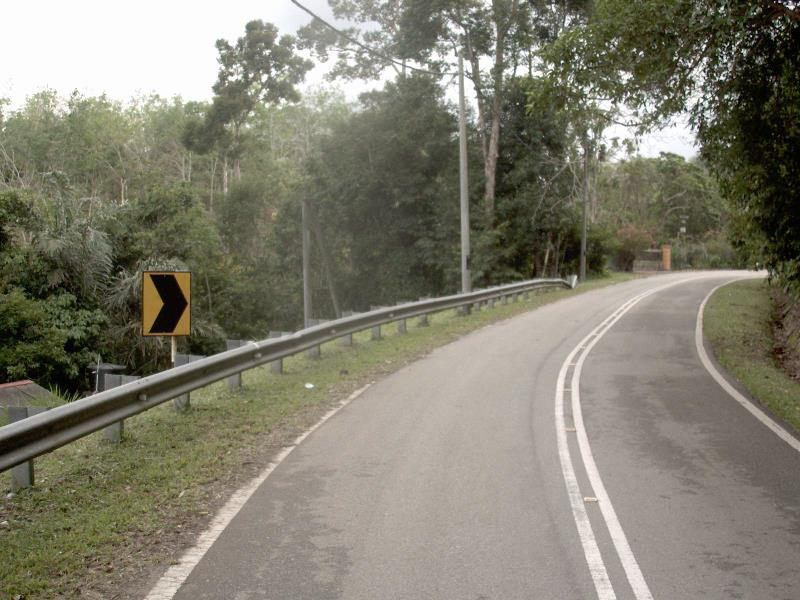traffic_sign: (131, 262, 202, 347)
